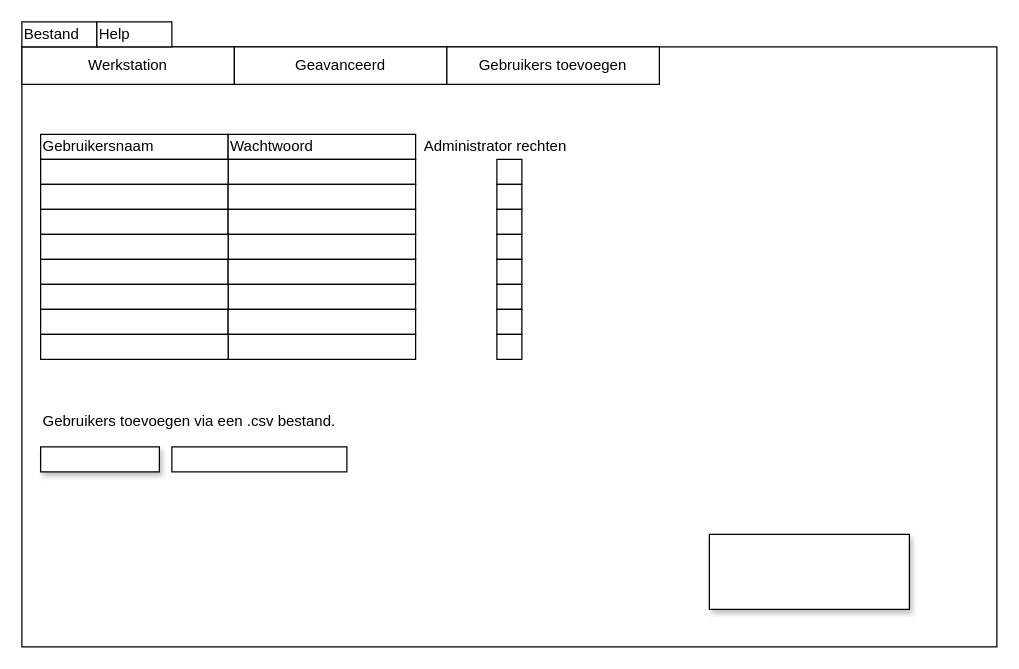
This 1019x669 diagram has some shape labels left out. Each missing label, with the centre of its shape:
"Bladeren..." belongs at point (100, 461).
"UITVOEREN" belongs at point (810, 573).
